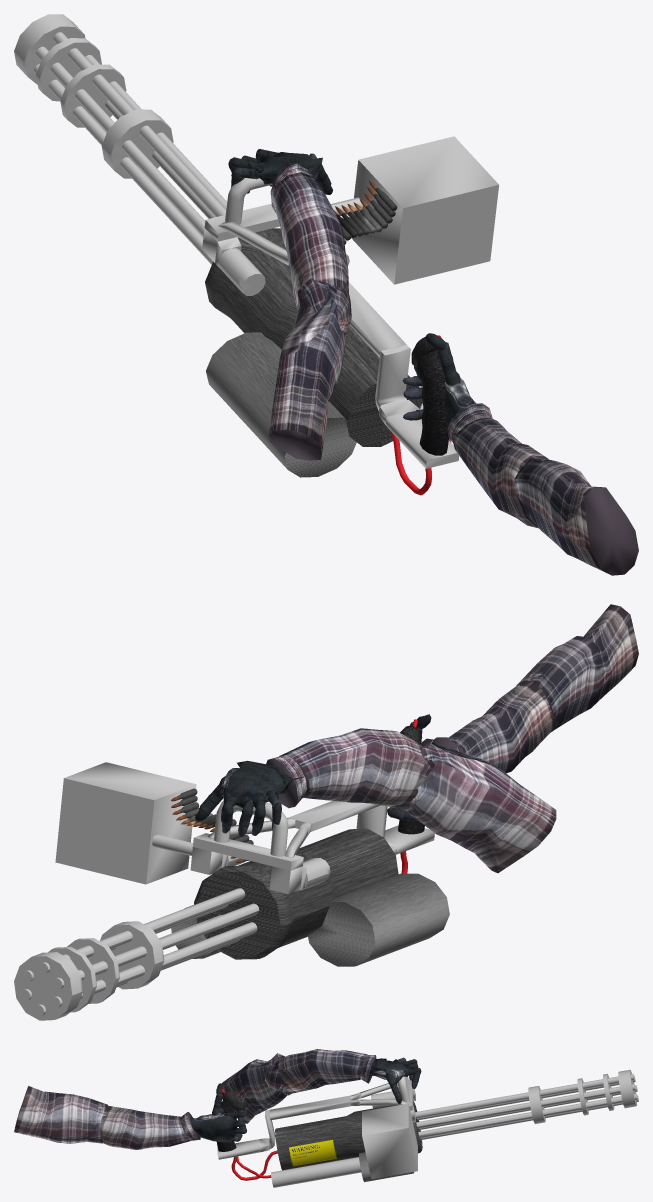
The model's file is m134_view.fbx.
3 renders of one model, top to bottom at view 1: azimuth 30°, elevation 25°; view 2: azimuth 150°, elevation 25°; view 3: azimuth 270°, elevation 25°, orthographic. The views are drawn at different scales.
Parts seen in each view (by area): view 1: larm, m134_magazine, m134_mainbody, rupperarm, m134_barrelclamp, m134_bigmotor, rforearm, m134_handleframe, m134_controller, m134_ysupport, m134_barrel1, m134_barrel3 (+9 smaller); view 2: larm, m134_magazine, m134_mainbody, m134_bigmotor, m134_barrelclamp, rupperarm, rforearm, lhand, m134_handleframe, m134_ysupport, m134_barrel3, m134_barrel1 (+6 smaller); view 3: larm, m134_mainbody, rupperarm, m134_magazine, rforearm, m134_ysupport, m134_motor2, m134_barrelclamp, m134_barrel6, m134_barrel1, m134_barrel5, lhand (+11 smaller).
Boxes of the visible parts, x1,y1,x2,y2 form: larm: [269, 163, 351, 460]; m134_magazine: [351, 136, 498, 284]; m134_mainbody: [205, 228, 422, 446]; rupperarm: [514, 458, 638, 575]; m134_barrelclamp: [14, 14, 173, 178]; m134_bigmotor: [206, 332, 356, 477]; rforearm: [447, 403, 548, 528]; m134_handleframe: [202, 203, 349, 295]; m134_controller: [411, 336, 448, 455]; m134_ysupport: [218, 222, 406, 357]; m134_barrel1: [53, 32, 238, 237]; m134_barrel3: [36, 46, 205, 236]; larm: [266, 728, 556, 873]; m134_magazine: [55, 762, 196, 884]; m134_mainbody: [194, 828, 398, 959]; m134_bigmotor: [308, 873, 449, 966]; m134_barrelclamp: [14, 921, 164, 1020]; rupperarm: [516, 604, 638, 732]; rforearm: [432, 680, 556, 773]; lhand: [194, 760, 303, 836]; m134_handleframe: [190, 833, 330, 894]; m134_ysupport: [207, 801, 380, 857]; m134_barrel3: [52, 903, 259, 989]; m134_barrel1: [38, 888, 245, 974]; larm: [221, 1049, 376, 1123]; m134_mainbody: [275, 1101, 422, 1170]; rupperarm: [14, 1086, 107, 1143]; m134_magazine: [362, 1103, 417, 1179]; rforearm: [98, 1105, 200, 1149]; m134_ysupport: [269, 1083, 406, 1120]; m134_motor2: [271, 1157, 361, 1187]; m134_barrelclamp: [528, 1069, 637, 1123]; m134_barrel6: [416, 1084, 635, 1128]; m134_barrel1: [415, 1074, 634, 1118]; m134_barrel5: [418, 1093, 637, 1137]; lhand: [369, 1057, 421, 1103].
Bounding box in the file's own units: 22.75 × 14.9 × 67.24.
